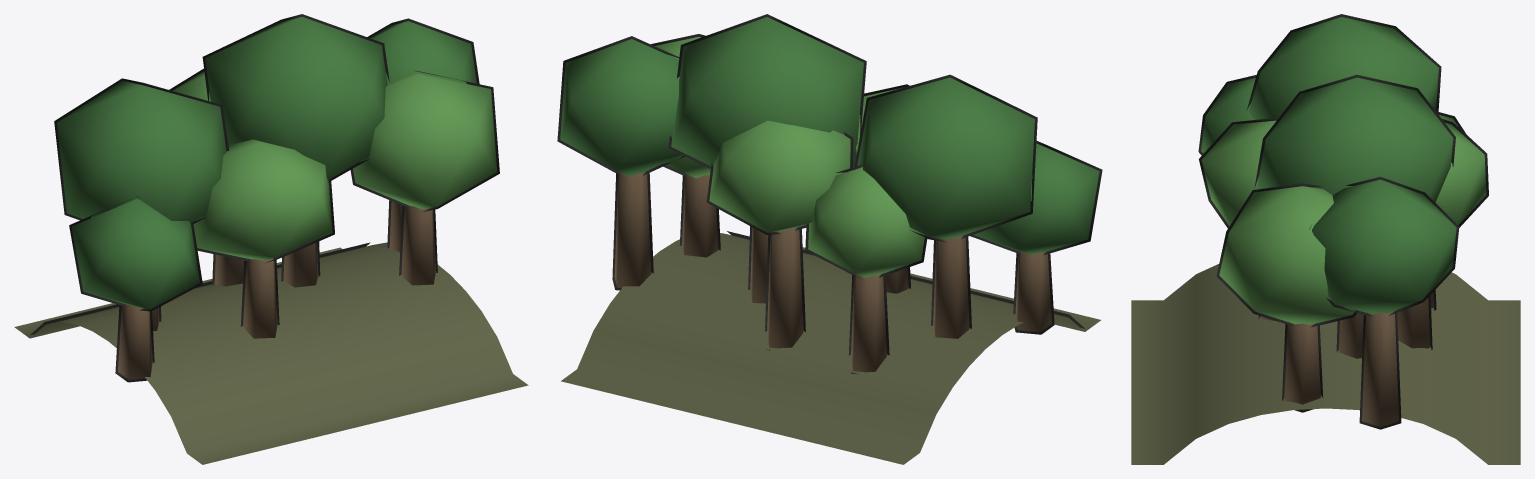
Rendered from td_foreststraightA.fbx.
The picture shows the model from 3 angles, left to right: view 1: azimuth 30°, elevation 25°; view 2: azimuth 150°, elevation 25°; view 3: azimuth 270°, elevation 25°; orthographic projection. The views are drawn at different scales.
Parts seen in each view (by area): view 1: Forest_Straight; view 2: Forest_Straight; view 3: Forest_Straight.
Part boxes in pixels (<box>): Forest_Straight: <box>14,14,528,464</box>; Forest_Straight: <box>557,14,1102,464</box>; Forest_Straight: <box>1131,14,1520,464</box>.
Size of the model in its own units: 274 by 187 by 200.
